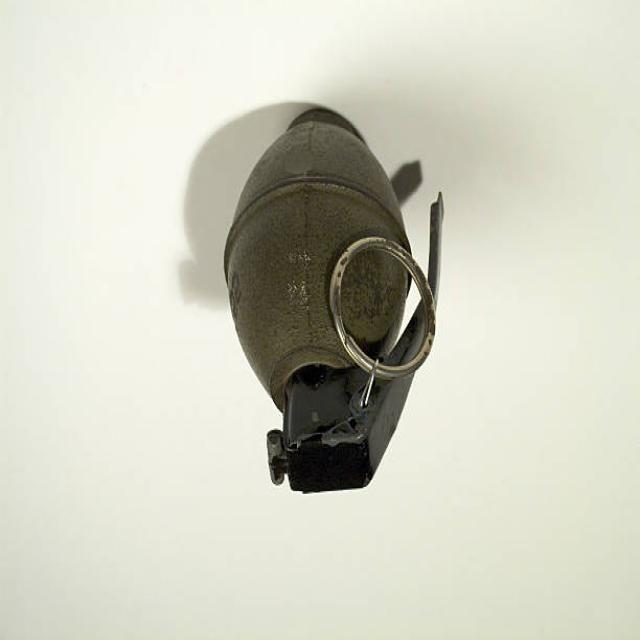grenade: (215, 93, 452, 506)
